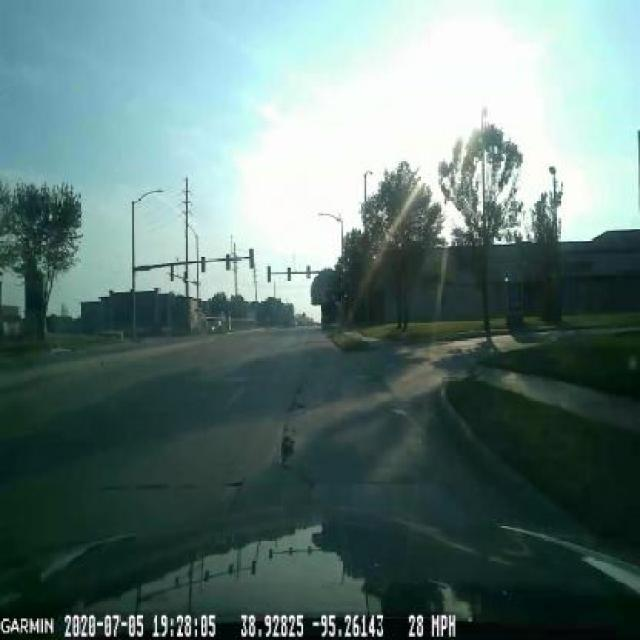Pothole: (281, 386, 310, 422), (274, 428, 297, 468)
